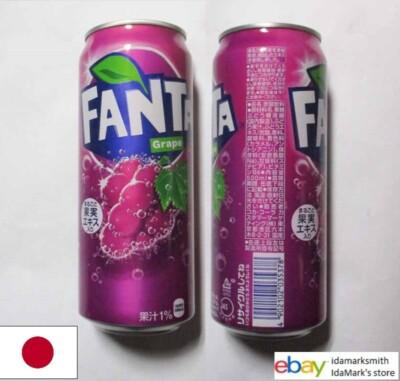can: (212, 24, 329, 334), (80, 22, 194, 334)
